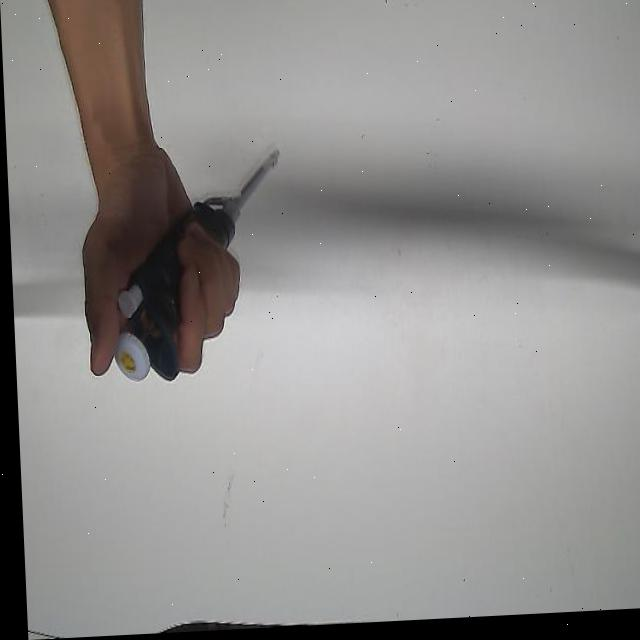Single Channel Pipettor: (103, 144, 291, 390)
